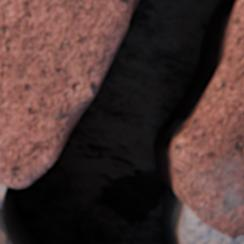broken_brick: (0, 0, 130, 187), (176, 0, 243, 239)
crack: (0, 0, 241, 243)
